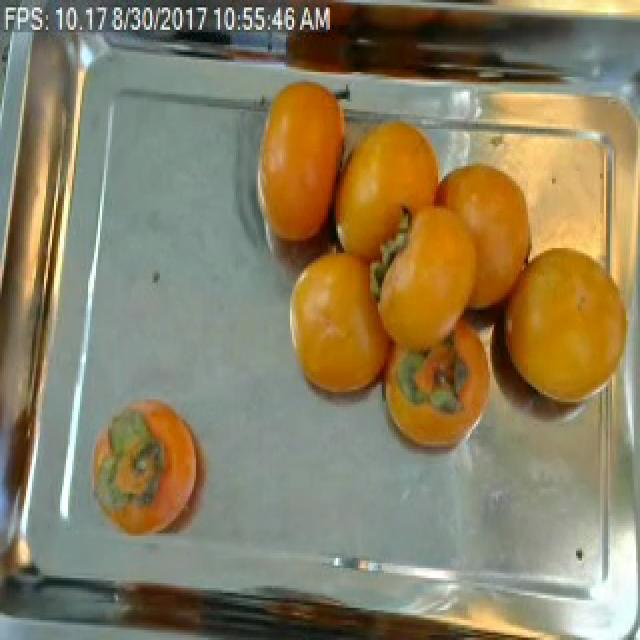Fruit: (86, 382, 224, 553), (238, 69, 346, 263)
